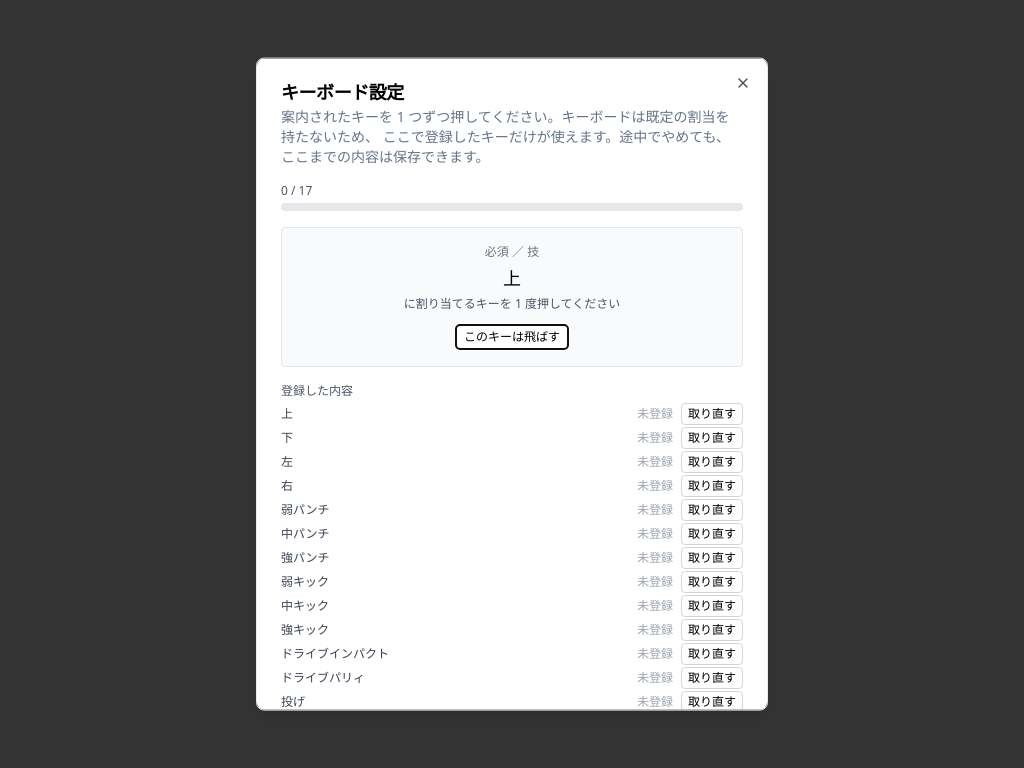
Test case: 登録の進行 › 二重割当は確認を求める
Press w
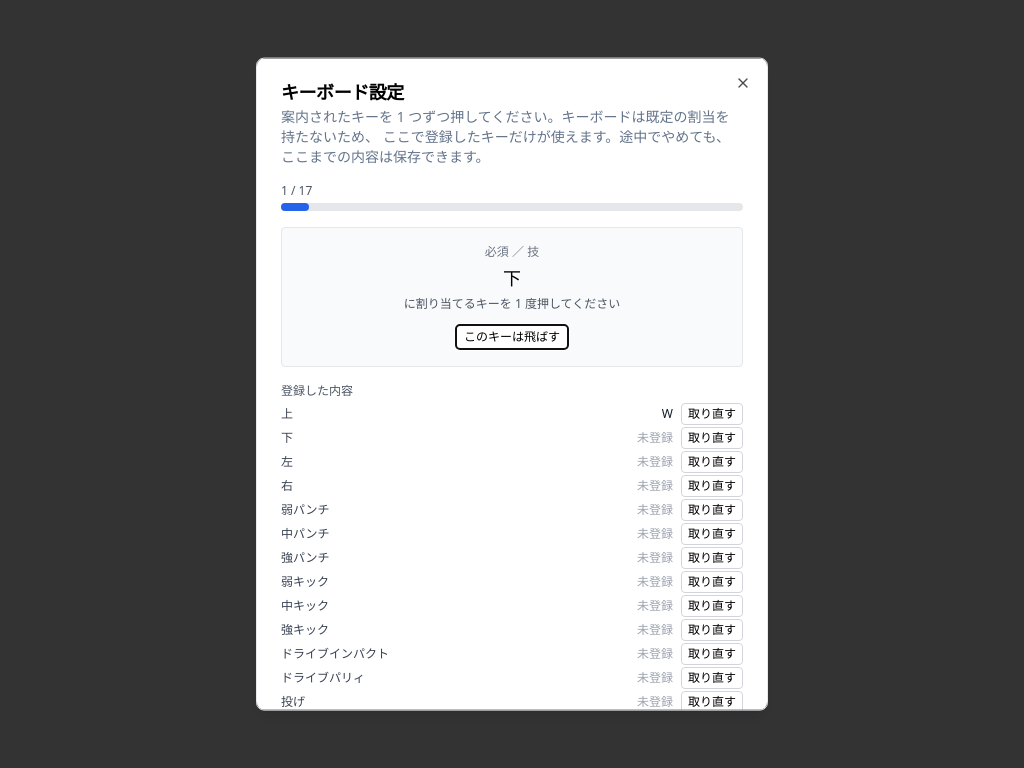
Press w
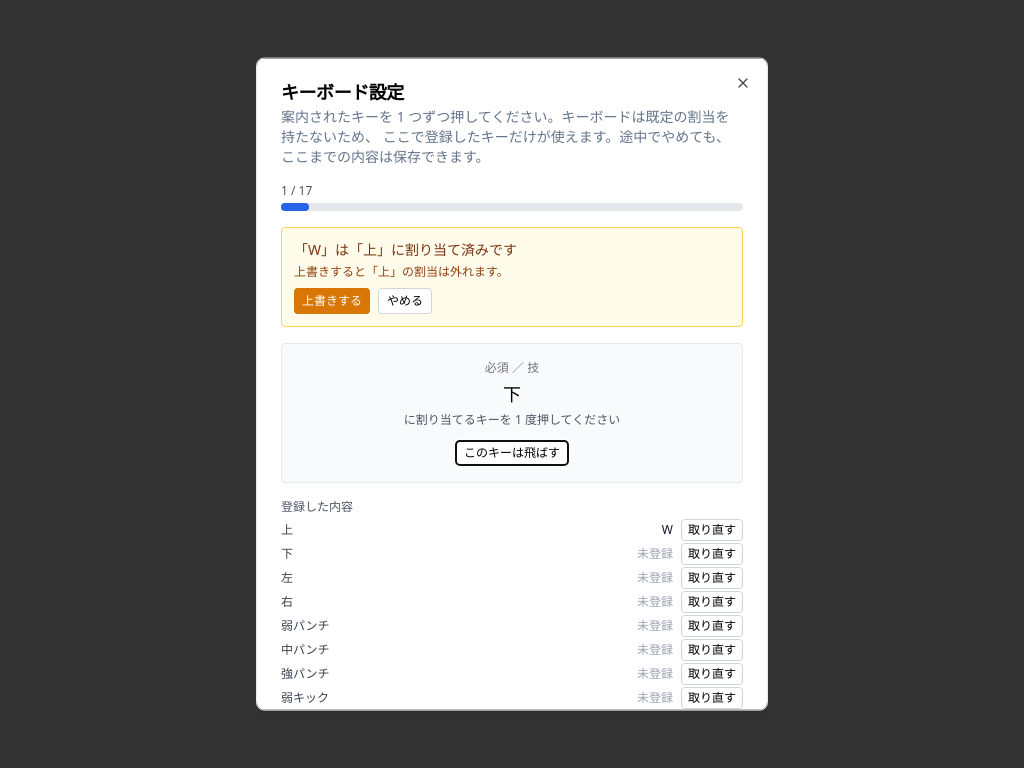
Now the element with test id "recipe-keyboard-conflict" shows "上", box 363,240 -> 377,259
Click the button with test id "recipe-keyboard-conflict-confirm": (332,301) 294,288 -> 370,314
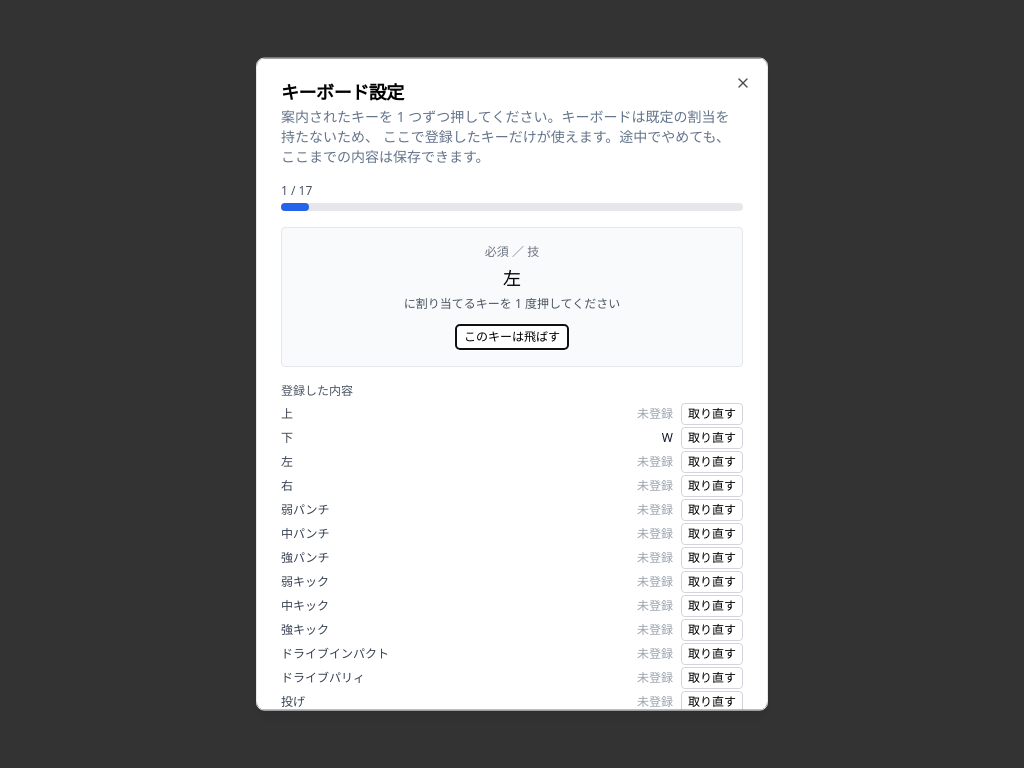
Now the text with test id "recipe-keyboard-assigned-down" reads "W", box 662,429 -> 673,446
